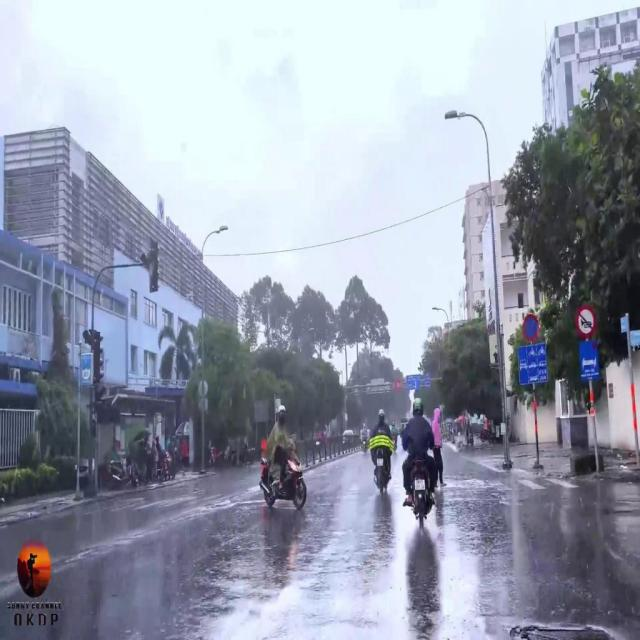cam_do_xe: (522, 311, 540, 342)
cam_su_dung_coi: (575, 303, 597, 342)
khac: (578, 334, 600, 383), (406, 372, 422, 391)
lan_duong_cho_tung_xe_theo_vach_ke_duong: (518, 342, 549, 387)
